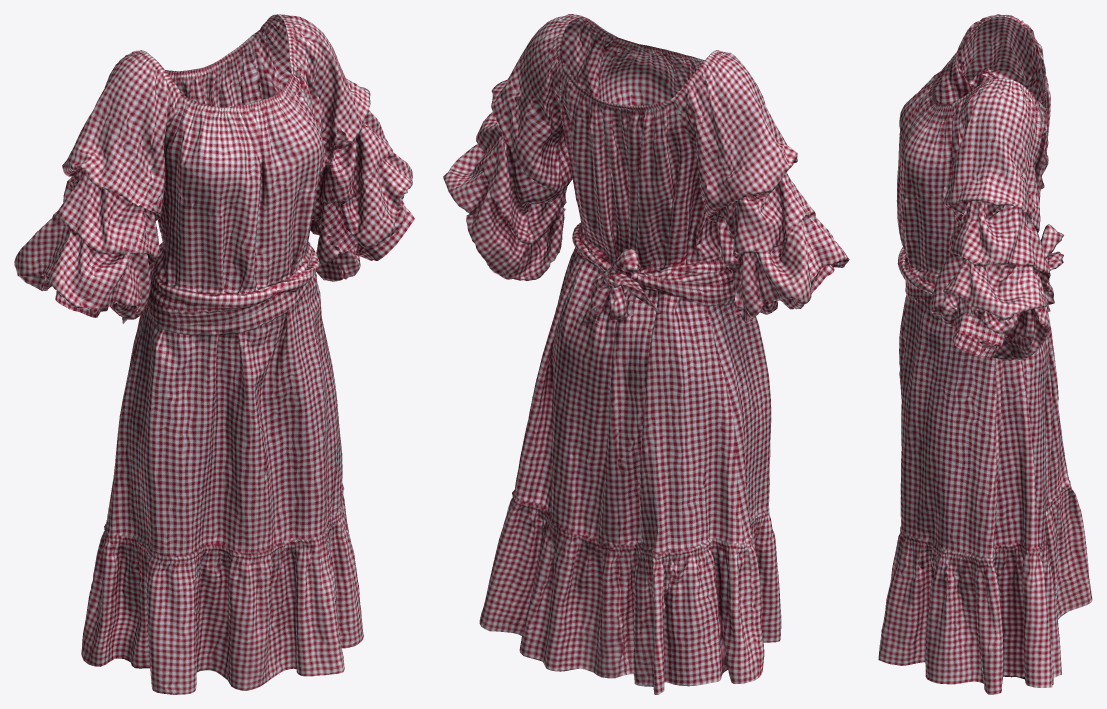
Rendered from Dress1.gltf.
3 views of the same model, side by side, from view 1: azimuth 30°, elevation 25°; view 2: azimuth 150°, elevation 25°; view 3: azimuth 270°, elevation 25° (orthographic). The views are drawn at different scales.
Visible parts, largest first — view 1: Dress-1_58542; view 2: Dress-1_58542; view 3: Dress-1_58542.
Part boxes in pixels (x1,y1,x2,y2): Dress-1_58542: (14,14,414,694); Dress-1_58542: (443,14,849,694); Dress-1_58542: (878,14,1092,694).
Size of the model in its own units: 0.7245 by 1.15 by 0.3715.
1 material, 1 textured.
